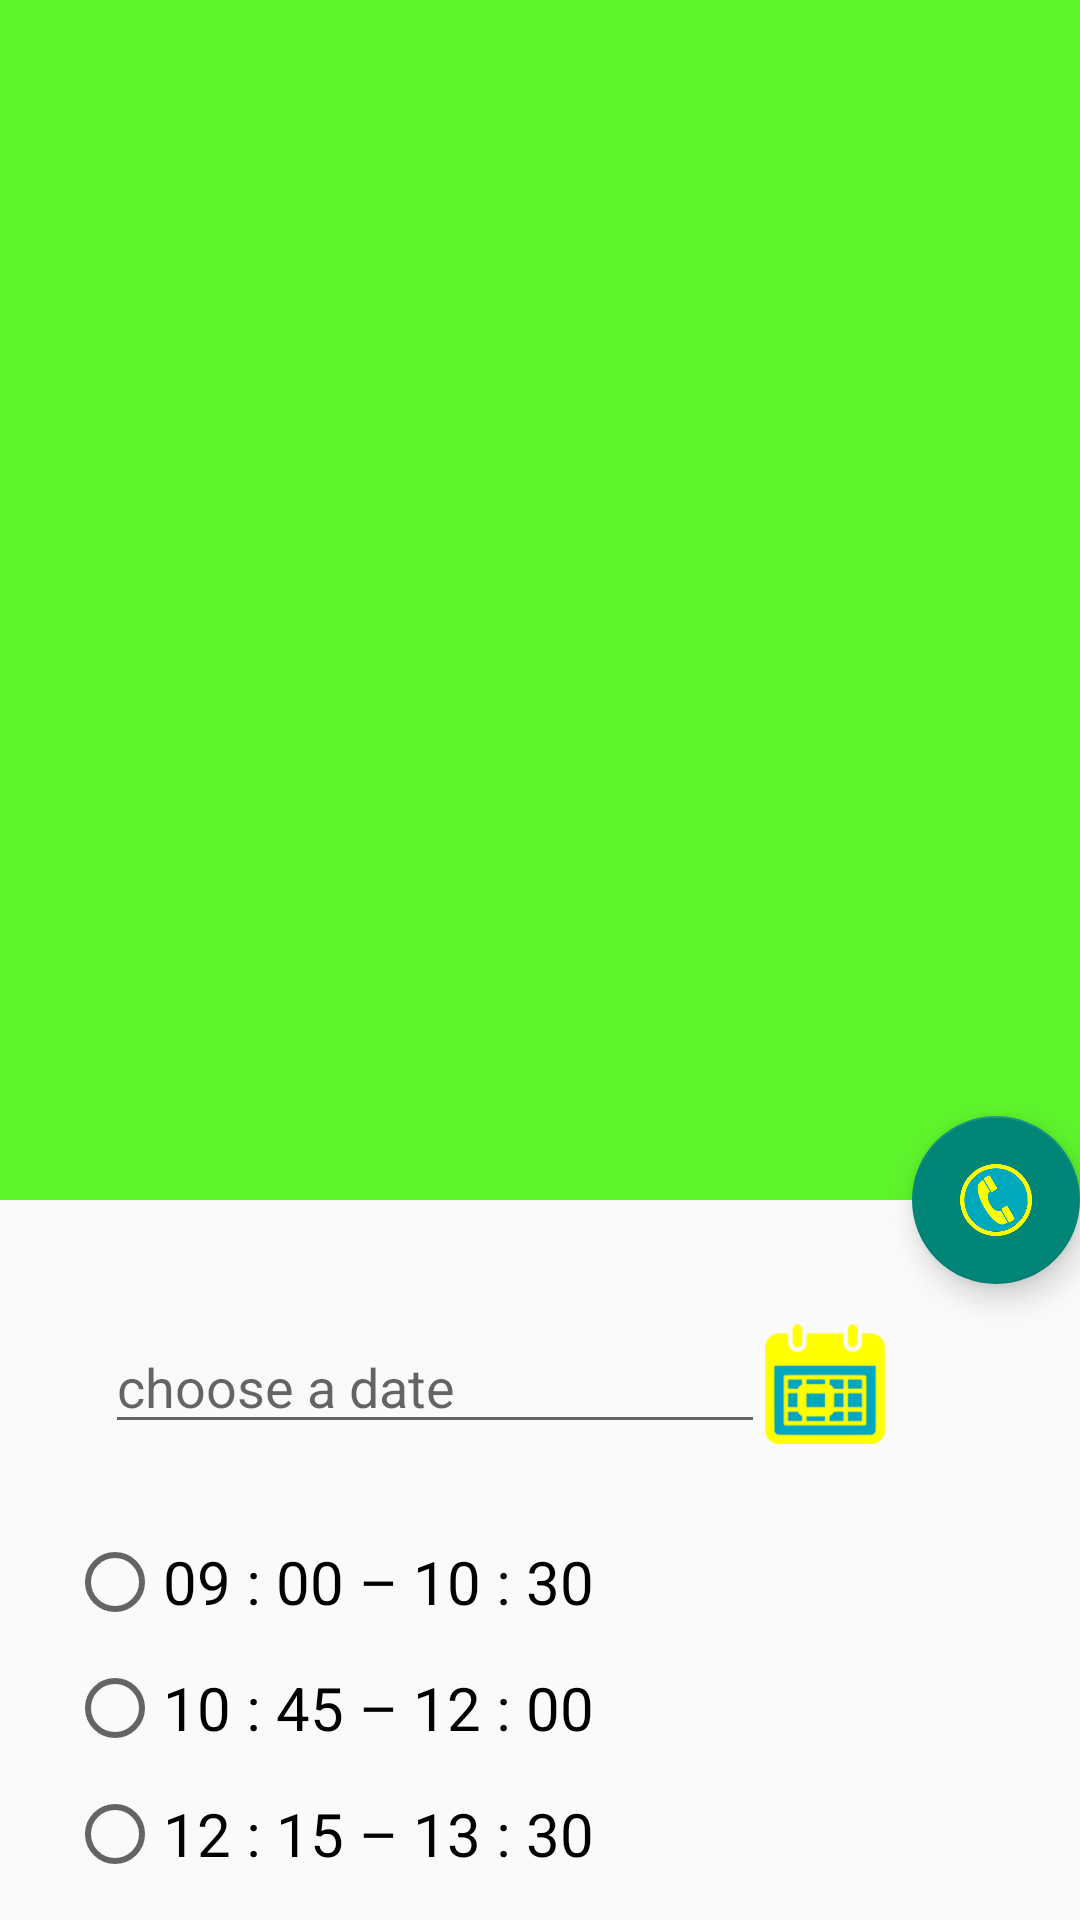

Icon click points for this 1080px×1920px phone screenshot, format (x,y):
calend: (825,1384)
callbutton: (996,1200)
